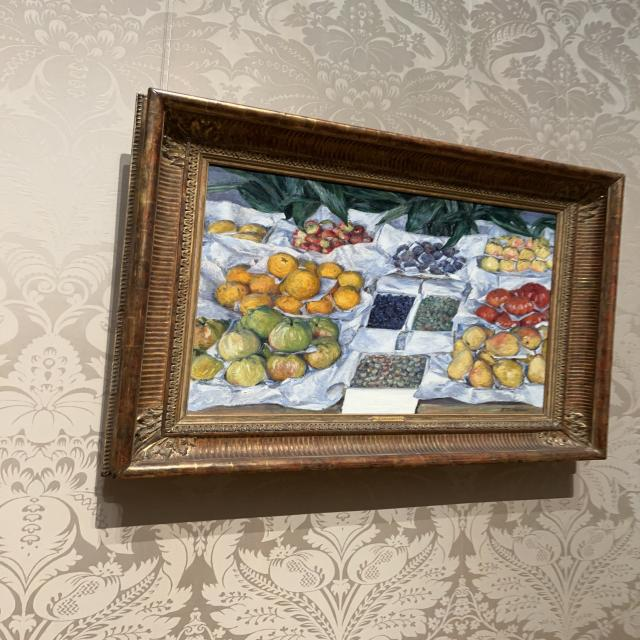fruits: (188, 170, 554, 410)
